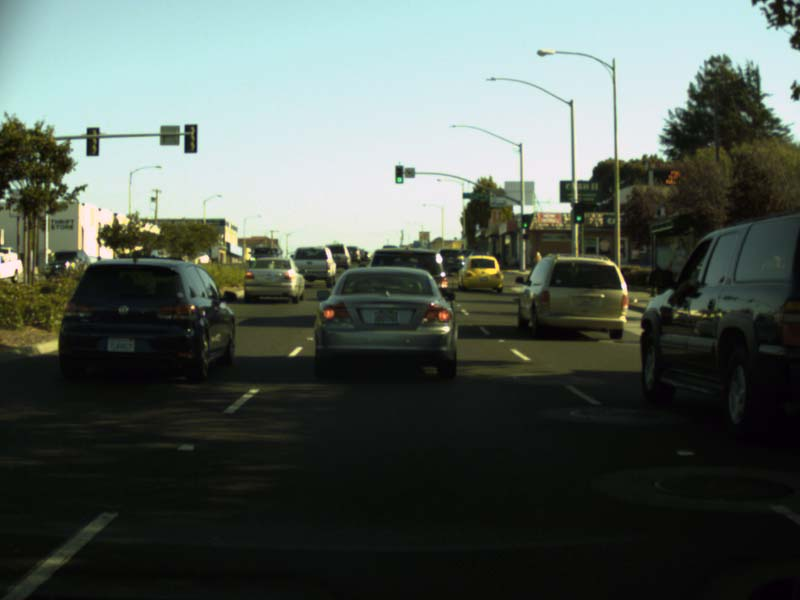Green: (573, 203, 584, 223), (394, 164, 404, 184), (521, 214, 529, 228)
